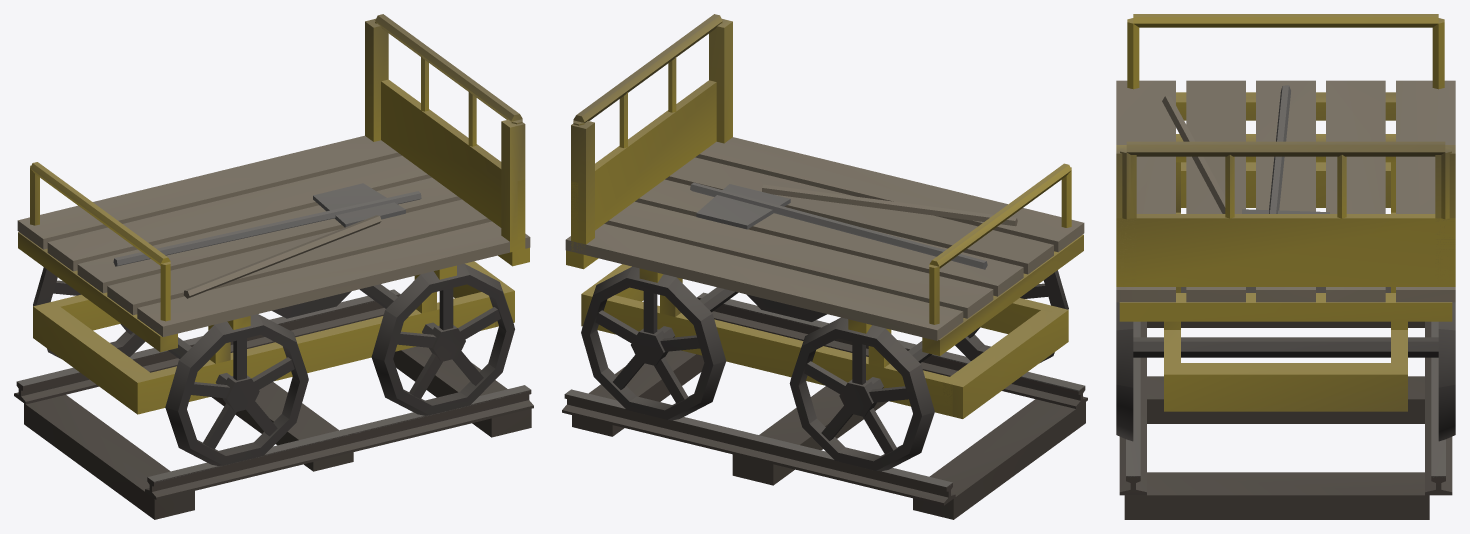
The model's file is platelayer_trolley_short.glb.
3 renders of one model, left to right at view 1: azimuth 30°, elevation 25°; view 2: azimuth 150°, elevation 25°; view 3: azimuth 270°, elevation 25°, orthographic. The views are drawn at different scales.
Visible parts, largest first — view 1: platelayer_trolley_short; view 2: platelayer_trolley_short; view 3: platelayer_trolley_short.
Part boxes in pixels (box(x1,y1,x2,y2)): platelayer_trolley_short: box(14, 14, 533, 519); platelayer_trolley_short: box(562, 14, 1087, 519); platelayer_trolley_short: box(1116, 14, 1455, 519).
Bounding box in the file's own units: 1.5 × 1.2 × 1.
